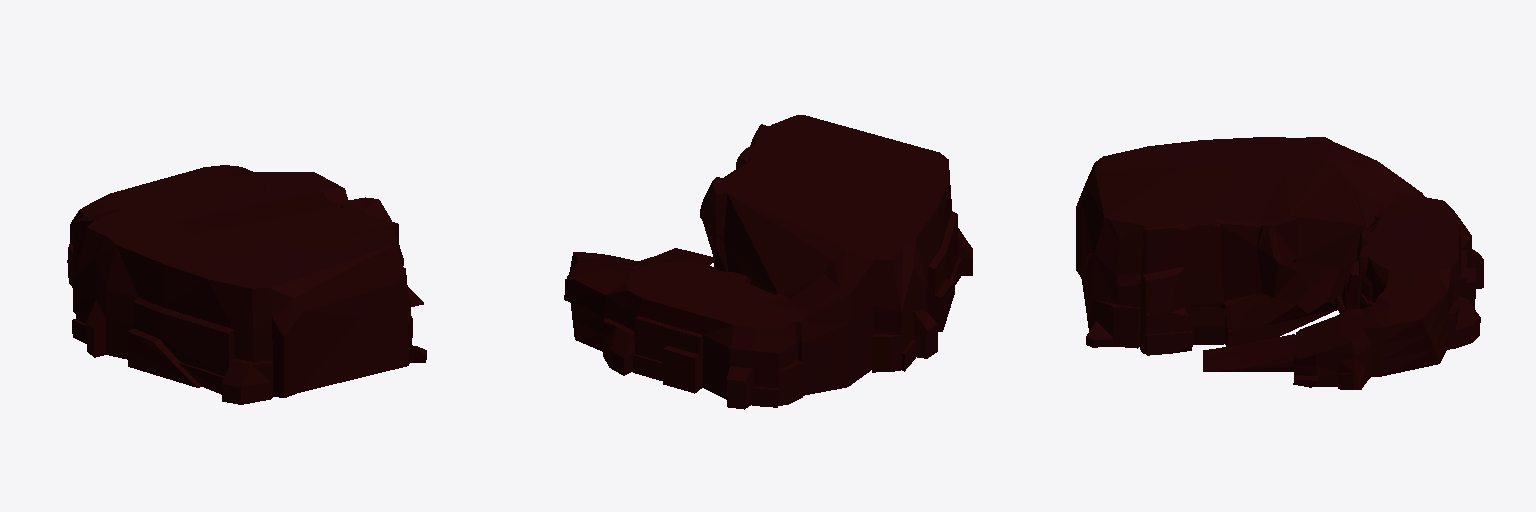
File: skala_mala_szeroka_1.obj
The picture shows the model from 3 angles: view 1: azimuth 30°, elevation 25°; view 2: azimuth 150°, elevation 25°; view 3: azimuth 270°, elevation 25°; orthographic projection.
Parts seen in each view (by area): view 1: Cube.022; view 2: Cube.022; view 3: Cube.022.
Boxes of the visible parts, x1=… form: Cube.022: x1=67, y1=165, x2=426, y2=404; Cube.022: x1=564, y1=115, x2=972, y2=409; Cube.022: x1=1076, y1=137, x2=1483, y2=389.
Size of the model in its own units: 13.38 by 4.95 by 14.28.